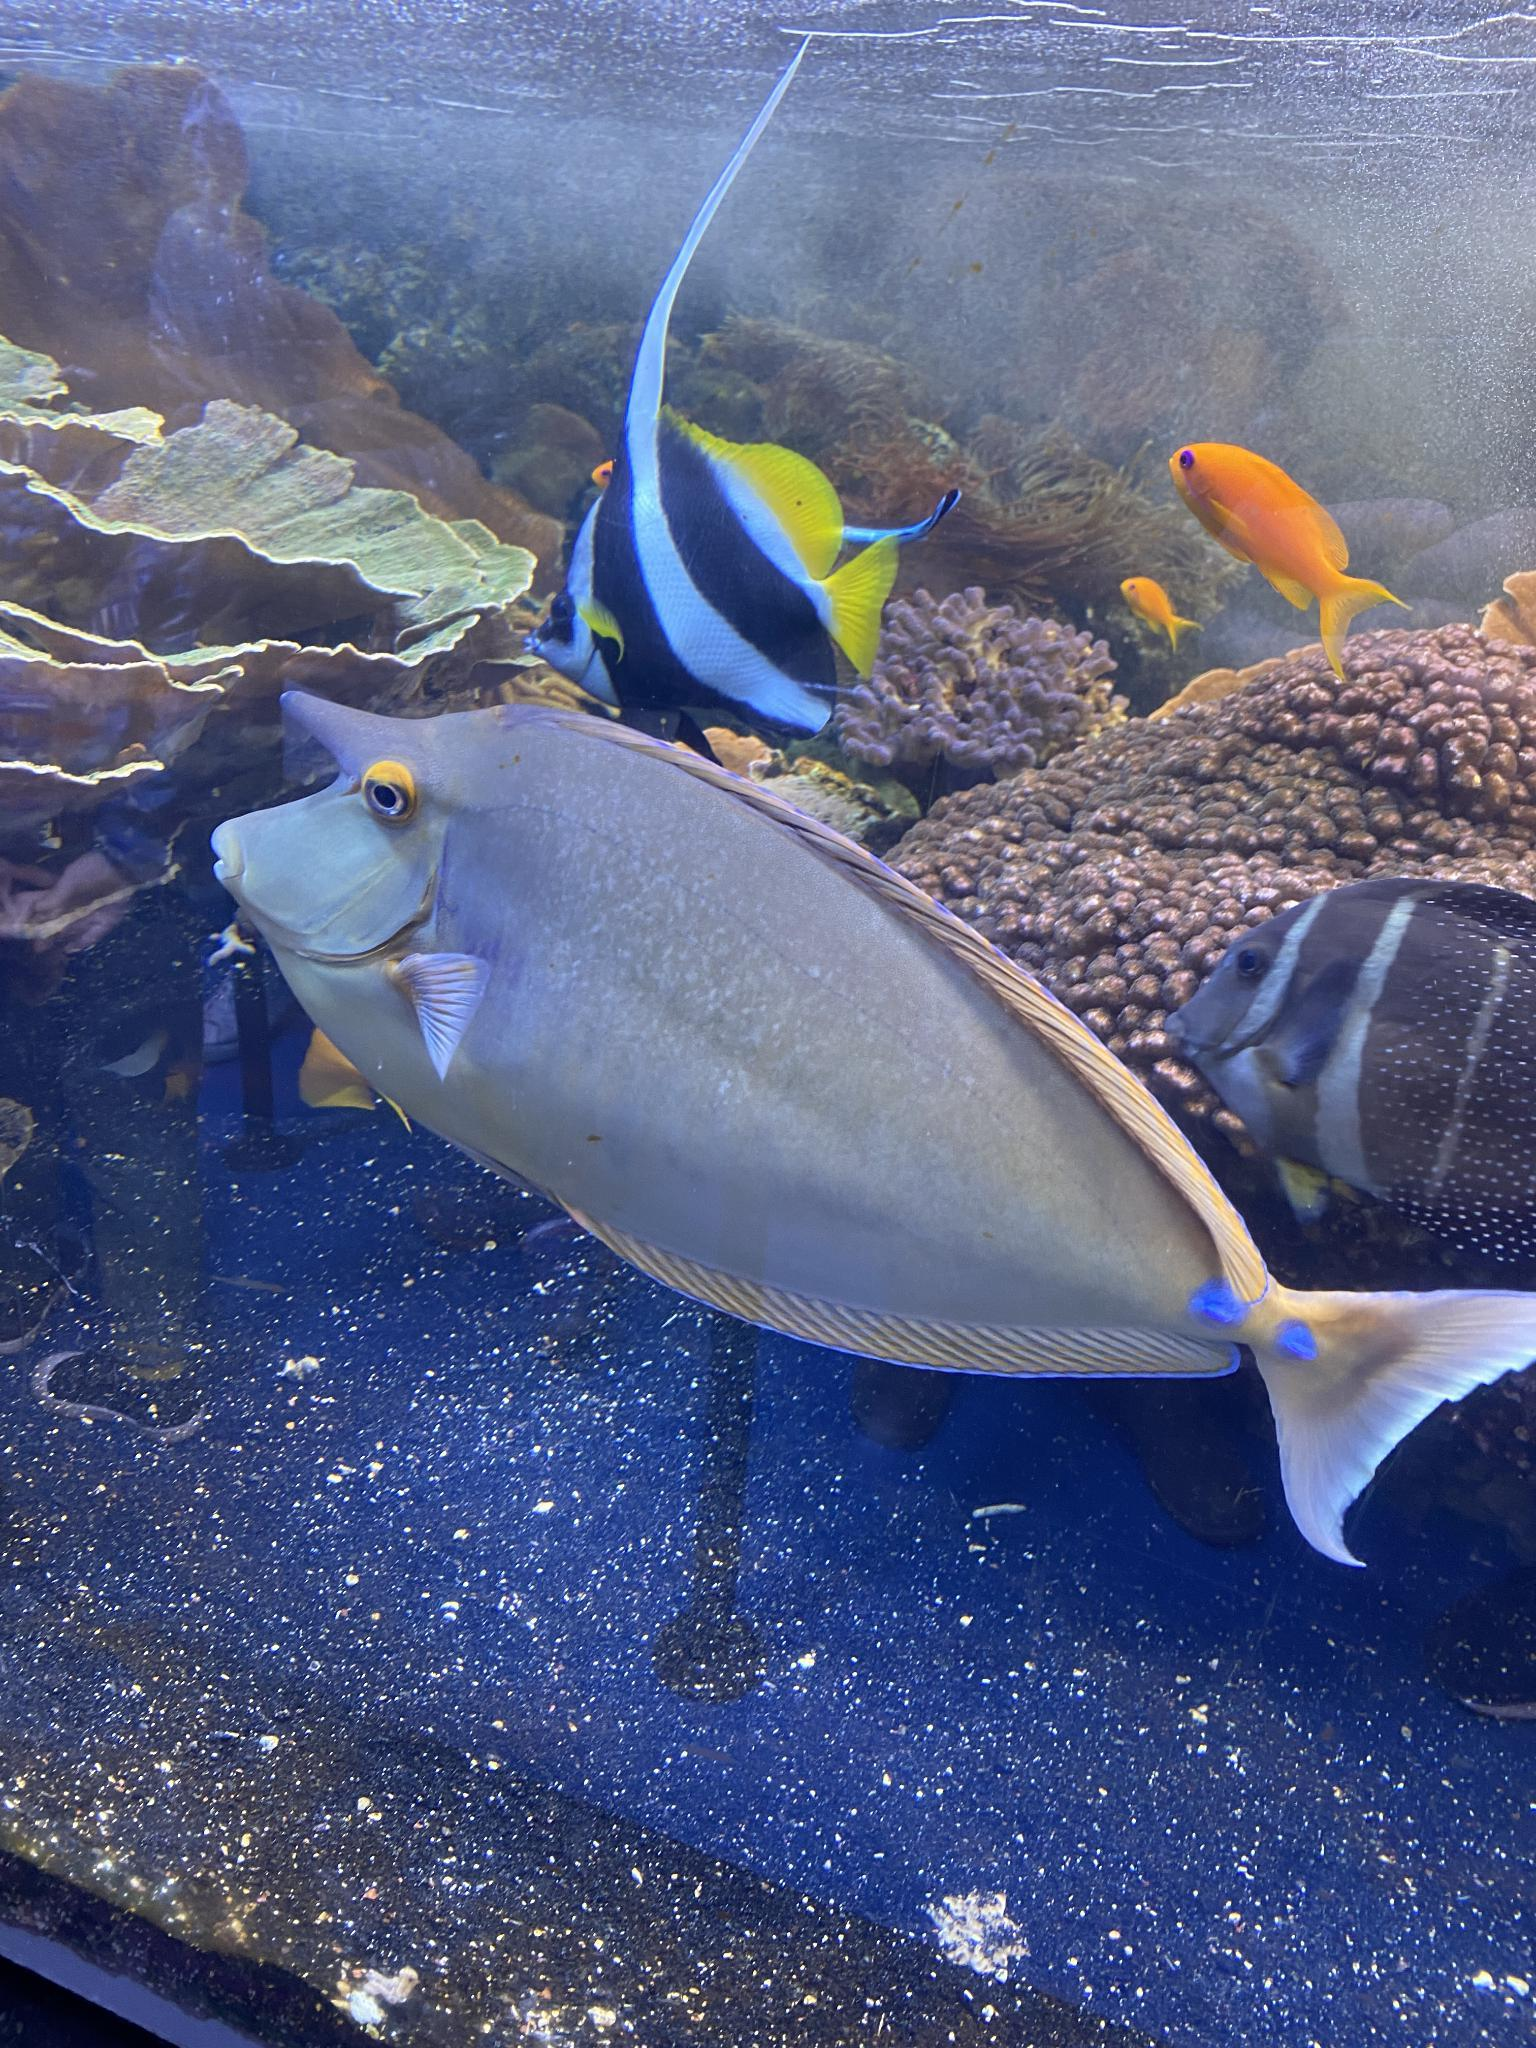fish: (211, 687, 1536, 1572), (1170, 877, 1536, 1269), (521, 408, 902, 735), (1170, 442, 1409, 674), (1123, 576, 1199, 651)
